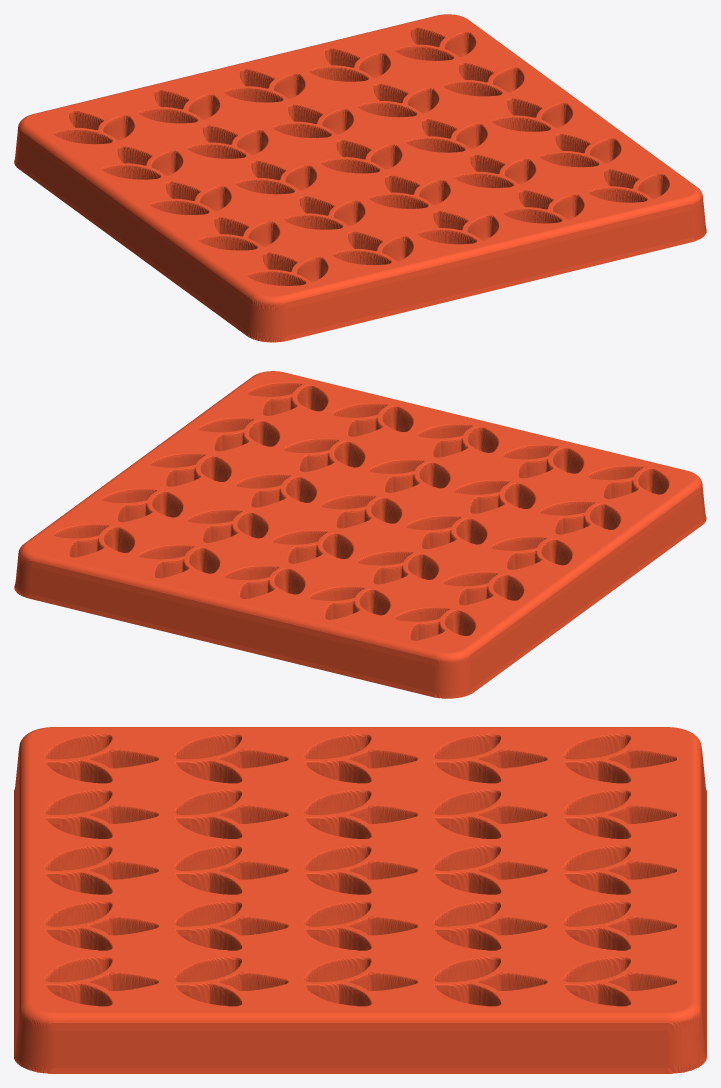
The model's file is mold.glb.
3 views of the same model, one above another, from view 1: azimuth 30°, elevation 25°; view 2: azimuth 150°, elevation 25°; view 3: azimuth 270°, elevation 25° (orthographic). The views are drawn at different scales.
Visible parts, largest first — view 1: geometry_0; view 2: geometry_0; view 3: geometry_0.
Boxes of the visible parts, left/top/right/bottom form: geometry_0: left=14, top=14, right=706, bottom=342; geometry_0: left=14, top=371, right=706, bottom=698; geometry_0: left=14, top=727, right=706, bottom=1073.
Bounding box in the file's own units: 0.1584 × 0.0136 × 0.1558.
